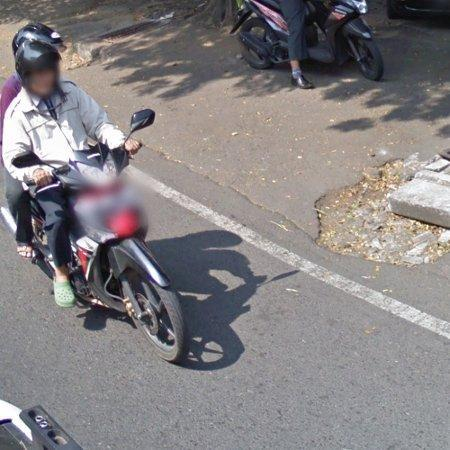motorcycles: (15, 144, 189, 363)
